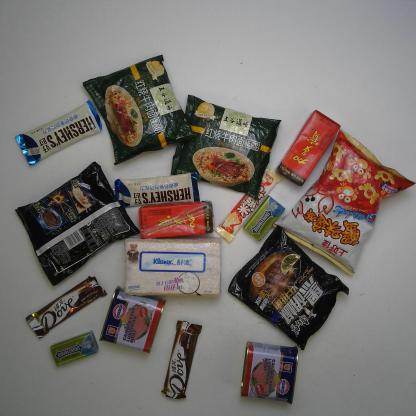Canned Food: (100, 287, 167, 355), (238, 340, 299, 409)
Chocolate: (212, 164, 283, 244), (16, 100, 102, 165), (25, 276, 110, 341), (159, 320, 202, 400), (112, 170, 201, 206)
Drink: (276, 107, 339, 188), (137, 201, 215, 237)
Gum: (244, 195, 286, 242), (48, 330, 99, 368)
Instant Noodles: (13, 160, 142, 286), (226, 226, 352, 351), (83, 53, 196, 164), (169, 94, 283, 198)
Puffed Food: (277, 128, 415, 281)
Tissue: (124, 234, 224, 302)
